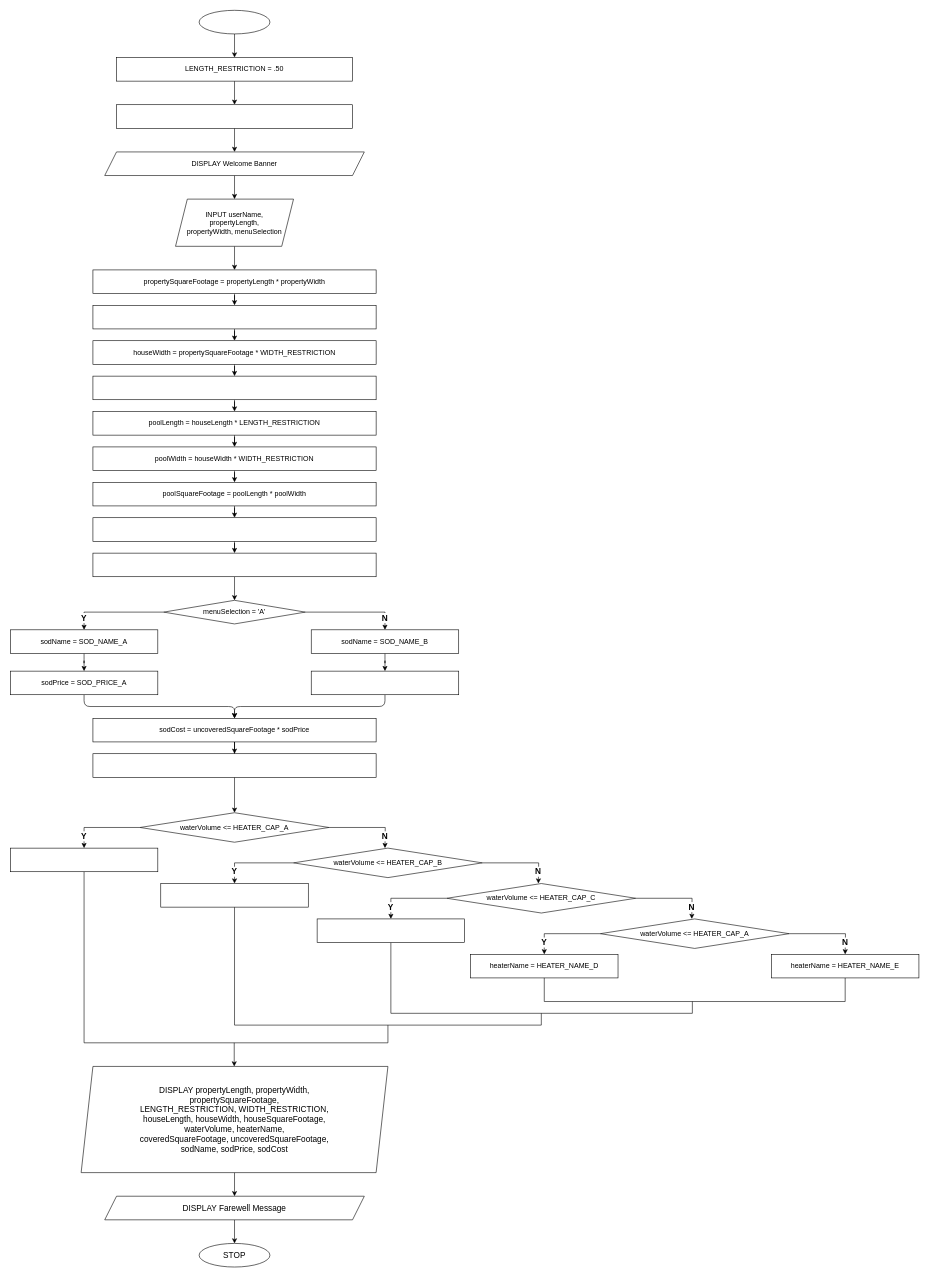
This 929x1277 diagram has some shape labels left out. The box of each missing label's shape, as (x1, y1, x2, y2) in pixels:
coveredSquareFootage = houseSquareFootage + poolSquareFootage: (92, 517, 376, 541)
heaterName = HEATER_NAME_A: (10, 848, 158, 872)
heaterName = HEATER_NAME_B: (160, 883, 308, 907)
heaterName = HEATER_NAME_C: (317, 918, 465, 943)
houseLength = propertyLength * LENGTH_RESTRICTION: (92, 305, 376, 329)
houseSquareFootage = houseLength * houseWidth: (92, 376, 376, 400)
sodPrice = SOD_PRICE_B: (311, 671, 459, 695)
START: (199, 10, 270, 34)
uncoveredSquareFootage = propertySquareFootage - coveredSquaredFootage: (92, 553, 376, 577)
waterVolume = poolSquareFootage * POOL_DEPTH: (92, 753, 376, 777)
WIDTH_RESTRICTION = .75: (116, 104, 353, 128)
